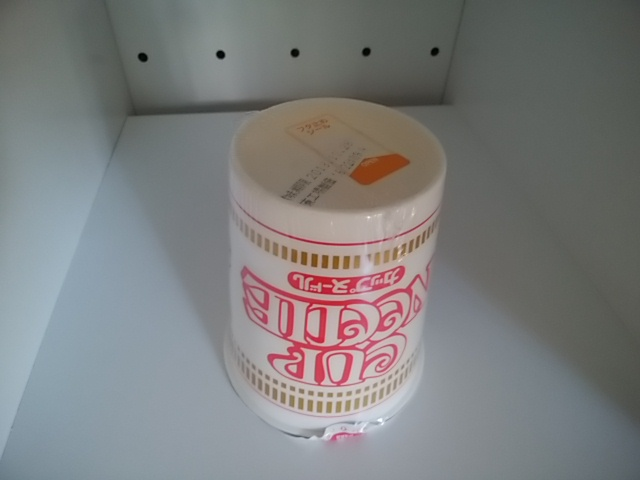cup-ramen: (220, 88, 453, 452)
